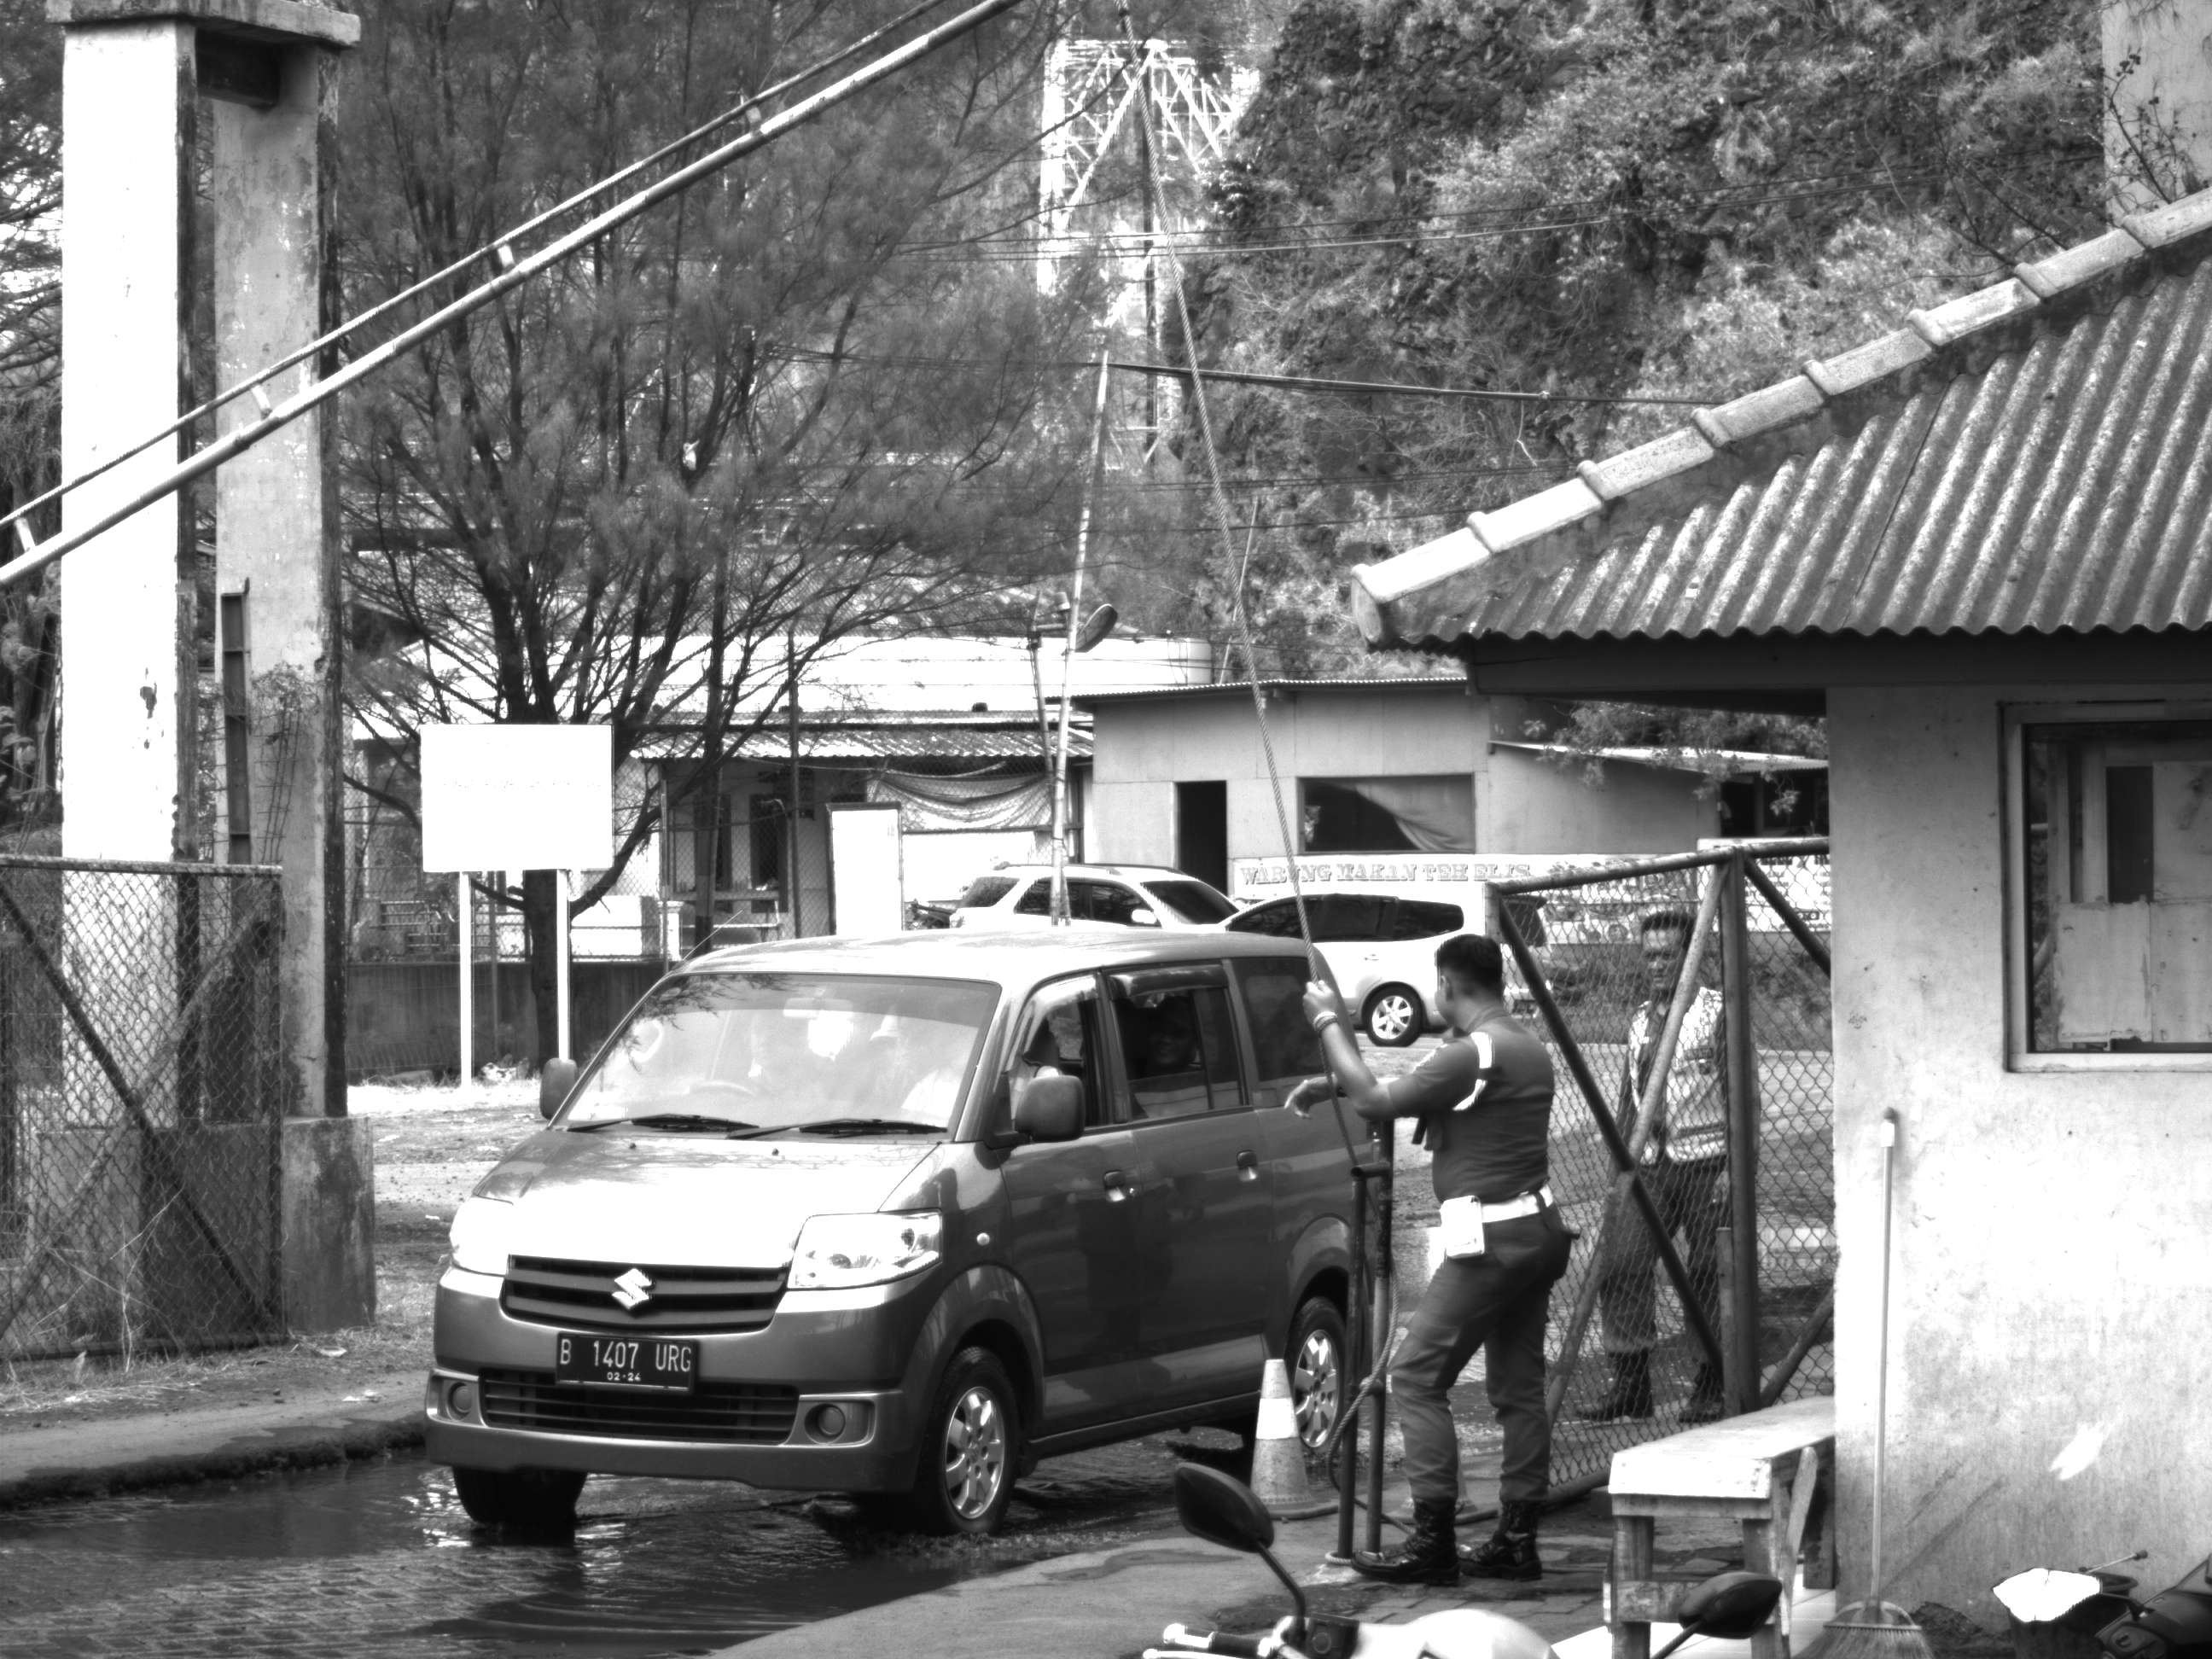day_small_front: (423, 933, 1059, 1546)
plate: (547, 1323, 698, 1400)
